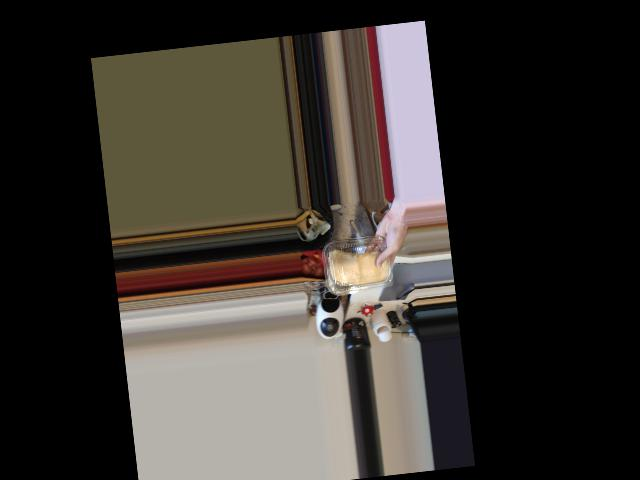cheese: (325, 231, 392, 301)
